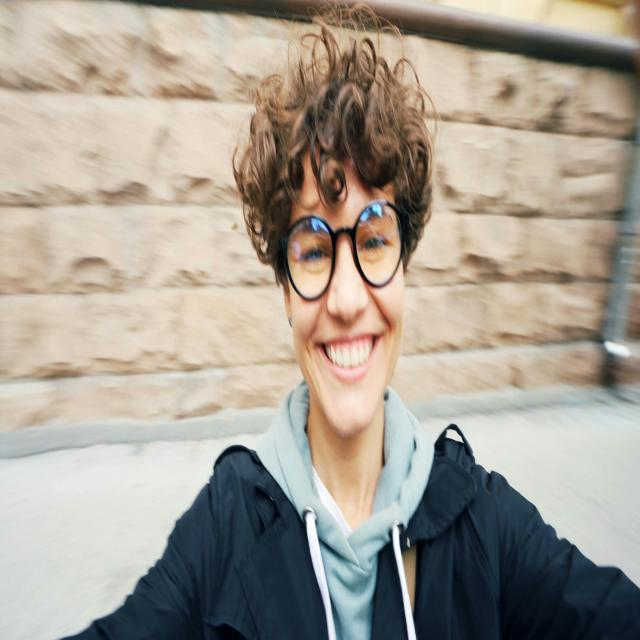oculos: (277, 196, 408, 302)
